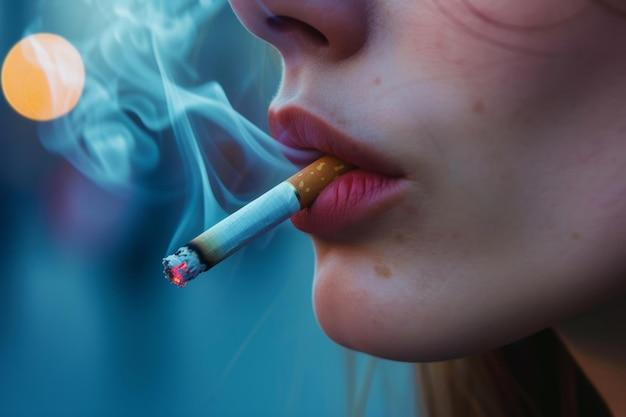cigarette: (163, 155, 354, 286)
